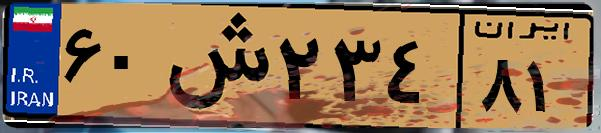0: (110, 28, 158, 98)
1: (525, 38, 570, 115)
2: (270, 28, 330, 110)
3: (330, 28, 385, 110)
4: (385, 28, 445, 110)
6: (57, 26, 110, 100)
8: (475, 38, 525, 113)
ش: (158, 12, 270, 120)
